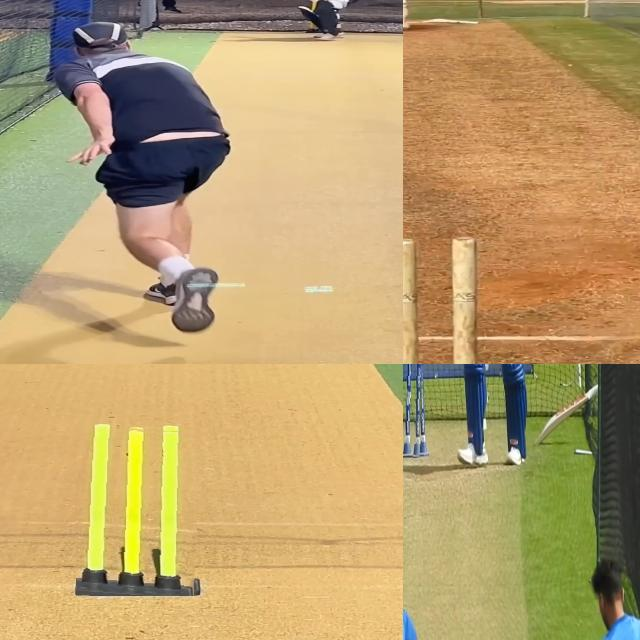Cricket ball: (403, 233, 483, 364)
Stumps: (76, 424, 201, 596), (403, 364, 426, 458)
